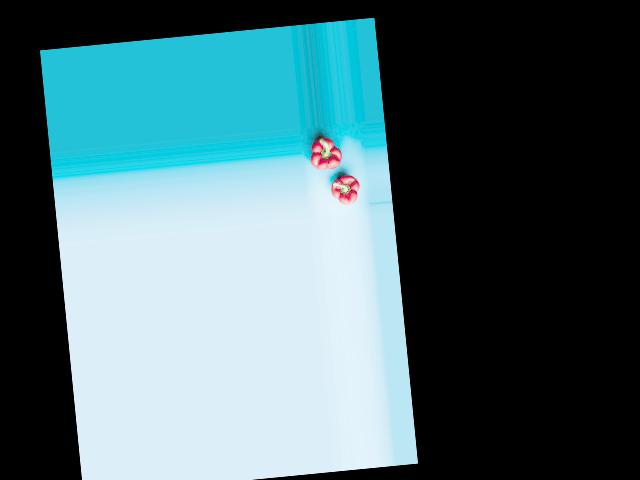bell_pepper: (308, 132, 347, 177)
